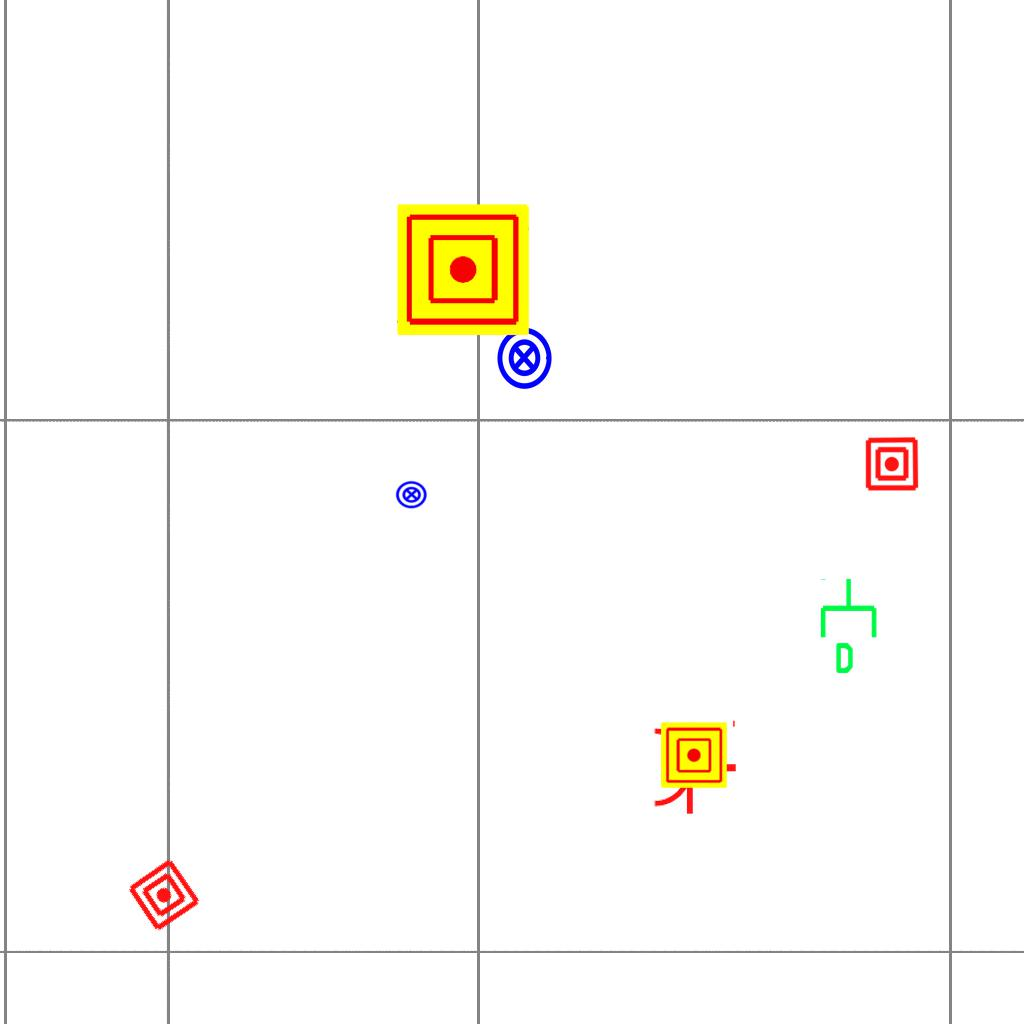Datenanschluss_einfach: (816, 576, 885, 676)
NAM-Nichtautomatischer_Melder: (397, 204, 529, 336), (125, 856, 203, 934), (661, 722, 727, 788), (864, 436, 920, 492)
Schukosteckdose_einfach: (651, 716, 738, 816)
Taster_beleuchtet: (491, 325, 557, 391), (395, 478, 428, 511)
